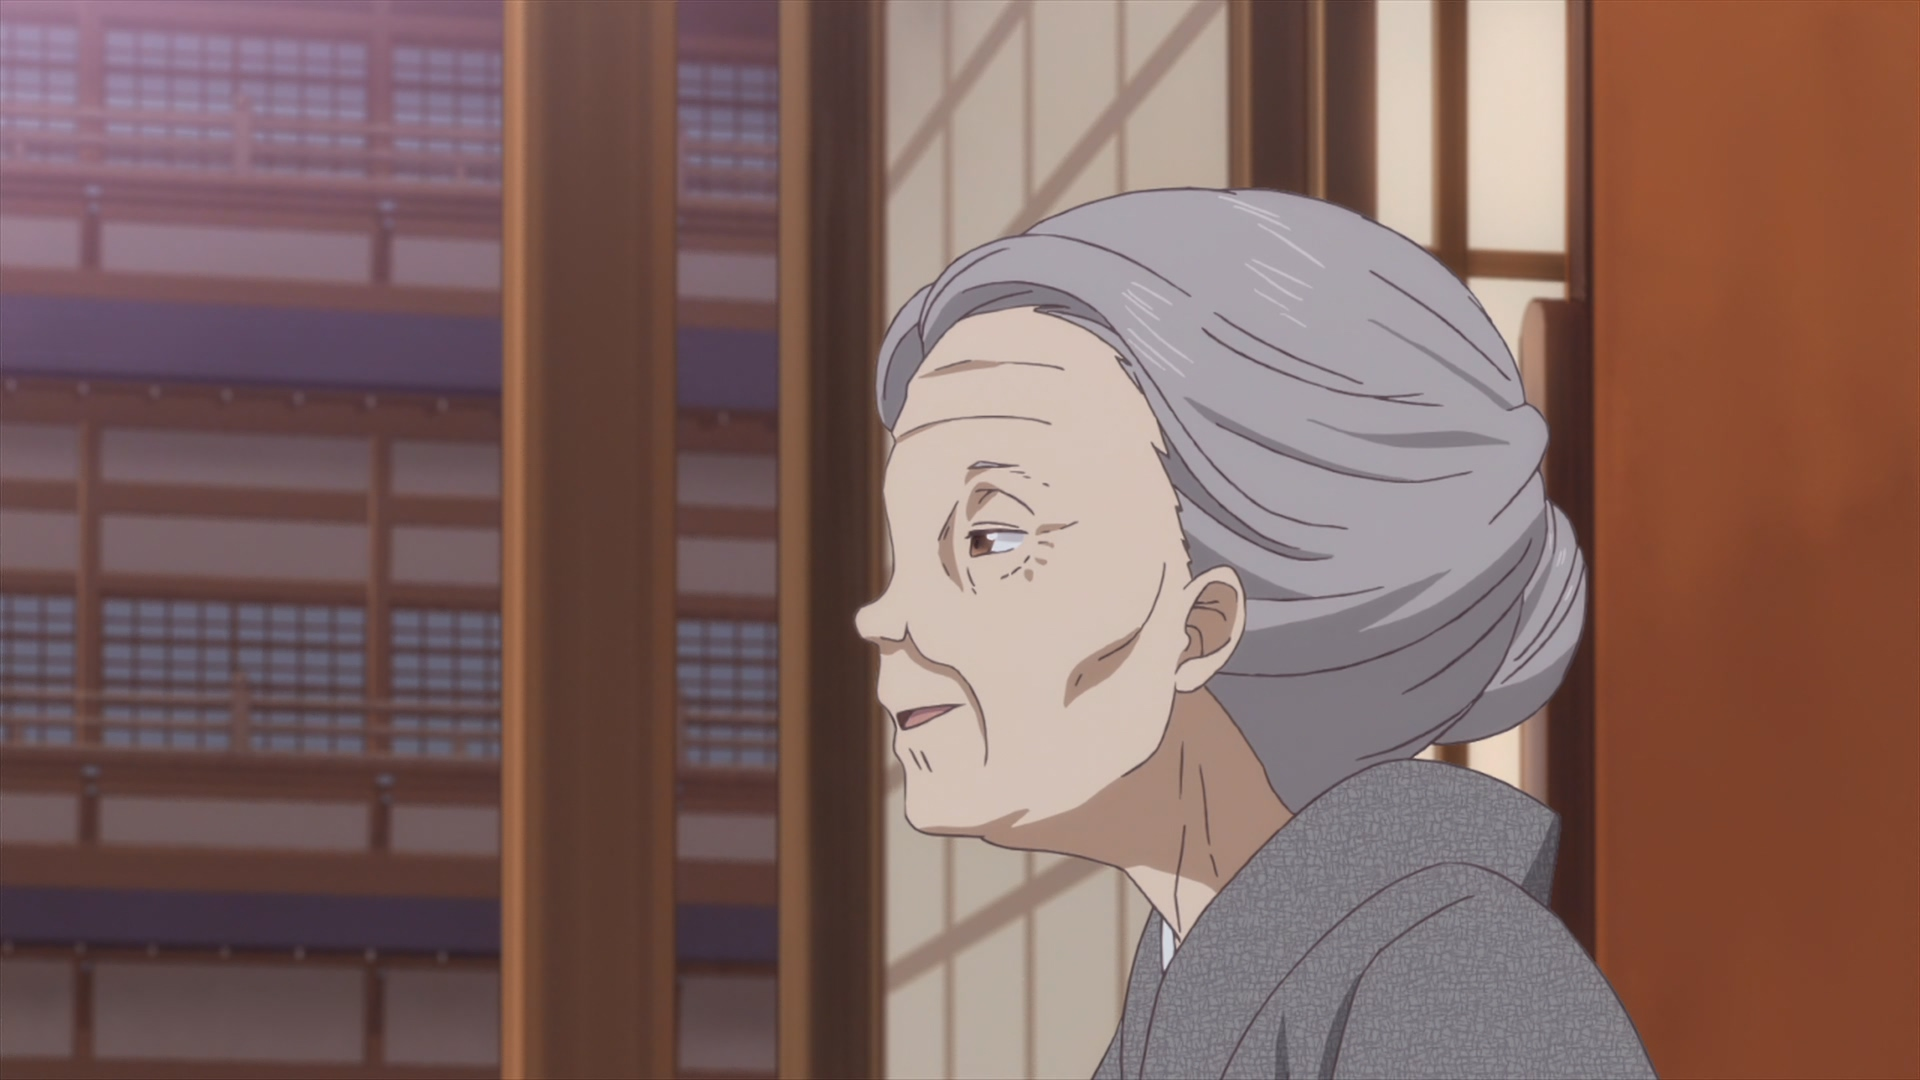其他: (853, 191, 1655, 1080)
